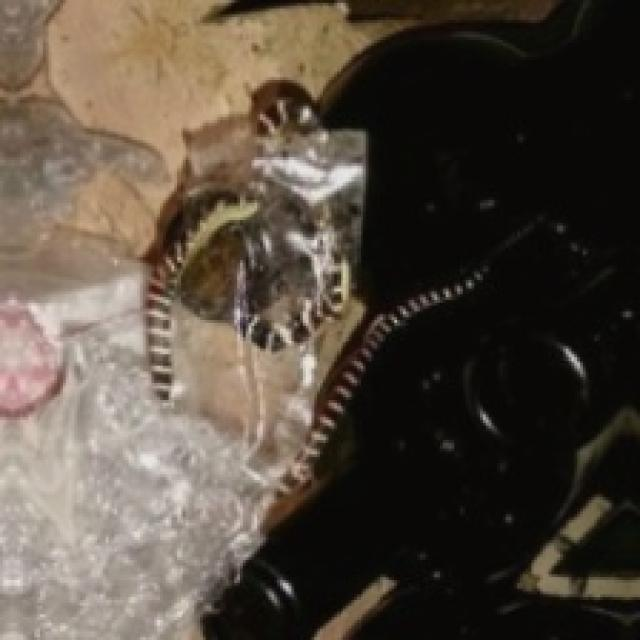paradise tree snake: (206, 0, 637, 637), (146, 80, 363, 460)
